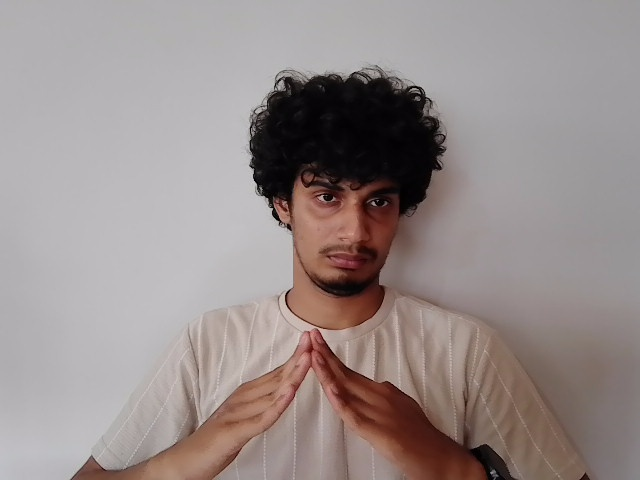home: (201, 326, 453, 478)
